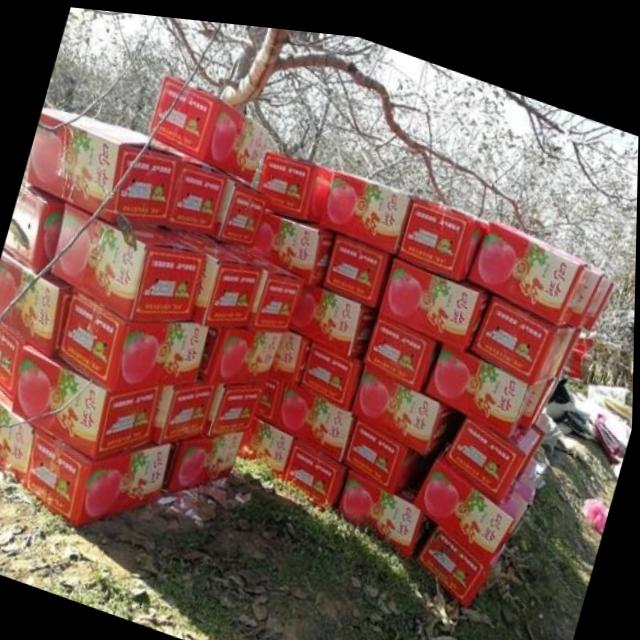box: (52, 202, 208, 317), (27, 109, 183, 222), (12, 342, 163, 458), (24, 425, 174, 525), (414, 433, 529, 552), (149, 71, 270, 180), (468, 209, 590, 313), (58, 286, 171, 389), (380, 249, 494, 340), (426, 331, 534, 427), (165, 222, 262, 322), (472, 281, 576, 373), (256, 366, 360, 455), (351, 356, 450, 445), (447, 405, 542, 492), (0, 247, 75, 356), (397, 187, 491, 273), (148, 129, 227, 229), (340, 459, 426, 548), (321, 163, 414, 244), (220, 237, 305, 323), (418, 515, 507, 594), (253, 200, 338, 281), (291, 275, 381, 349), (364, 305, 443, 383), (256, 143, 335, 219), (4, 179, 66, 271), (347, 410, 421, 487), (323, 225, 396, 300), (165, 424, 247, 488), (199, 322, 285, 376), (284, 431, 350, 501), (152, 375, 220, 441), (300, 334, 364, 403), (0, 386, 39, 484), (214, 170, 267, 241), (240, 408, 297, 472), (205, 378, 267, 429), (163, 315, 209, 378), (566, 251, 609, 315), (271, 325, 314, 381), (0, 324, 28, 398), (518, 366, 556, 418), (581, 265, 616, 320), (514, 455, 538, 493)
